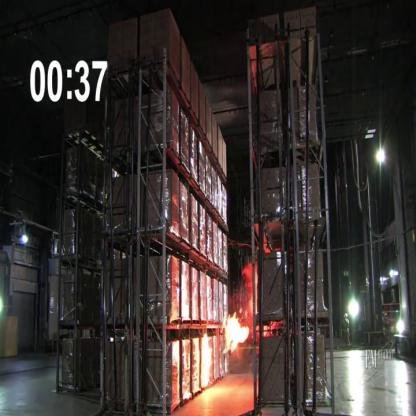fire: (223, 309, 250, 356), (201, 330, 214, 391)
